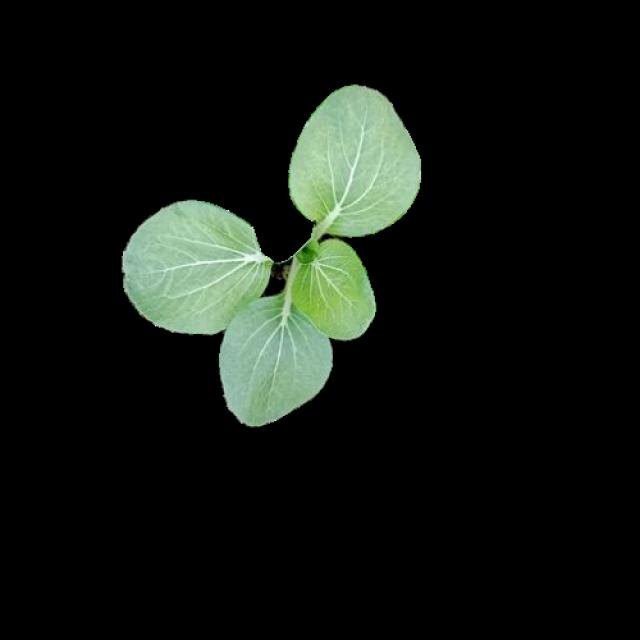healthy: (122, 82, 418, 421)
not-mature: (124, 84, 421, 423)
